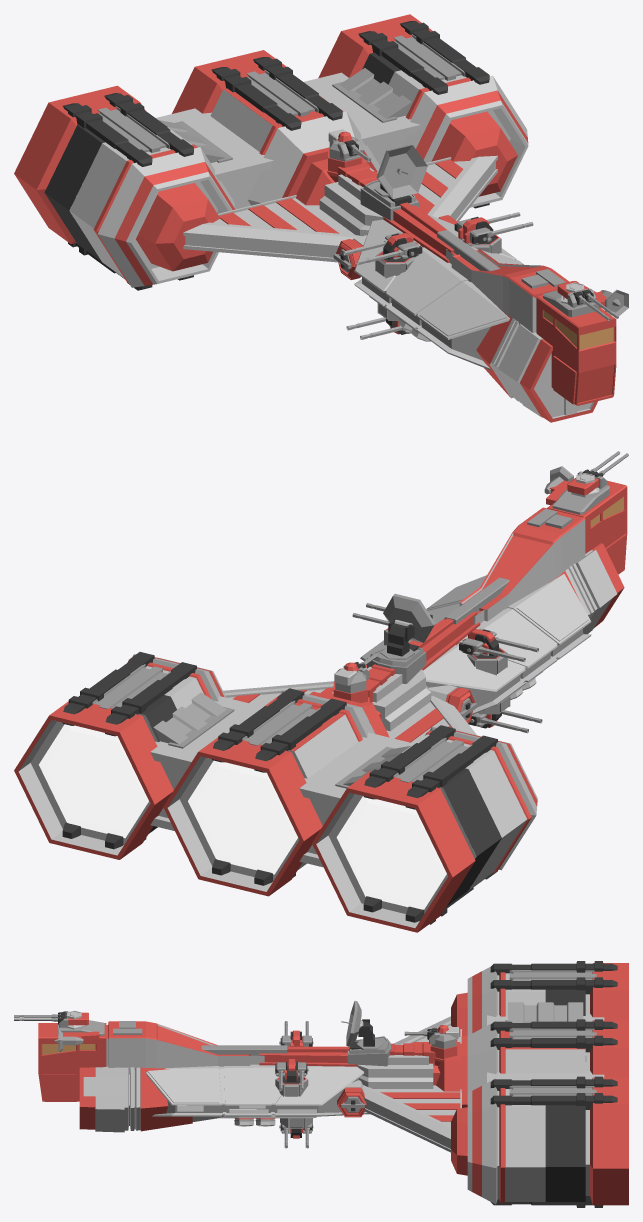
The model's file is republic_frigate.glb.
3 renders of one model, top to bottom at view 1: azimuth 30°, elevation 25°; view 2: azimuth 150°, elevation 25°; view 3: azimuth 270°, elevation 25°, orthographic. The views are drawn at different scales.
Parts seen in each view (by area): view 1: Cube.001; view 2: Cube.001; view 3: Cube.001.
Boxes of the visible parts, bbox=[...] form: Cube.001: bbox=[14, 14, 628, 422]; Cube.001: bbox=[14, 451, 628, 932]; Cube.001: bbox=[14, 961, 628, 1207].
Size of the model in its own units: 0.519 by 0.1904 by 0.8.
